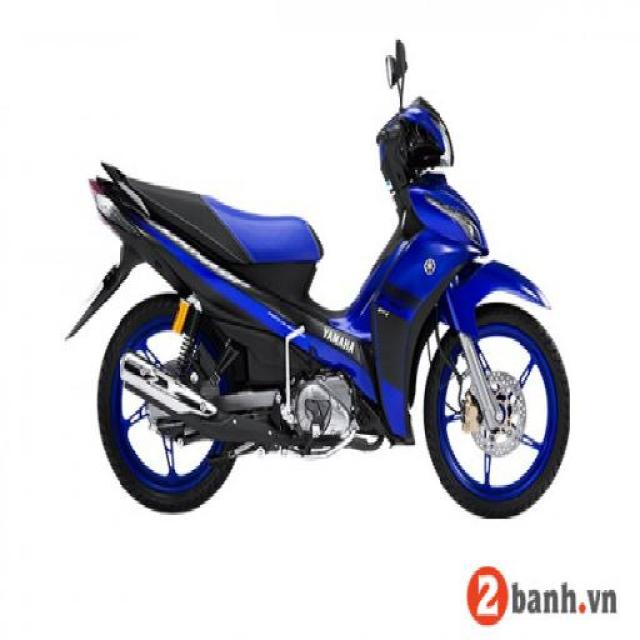All: (60, 92, 575, 520)
Head: (375, 94, 460, 175)
Tail: (86, 157, 146, 233)
